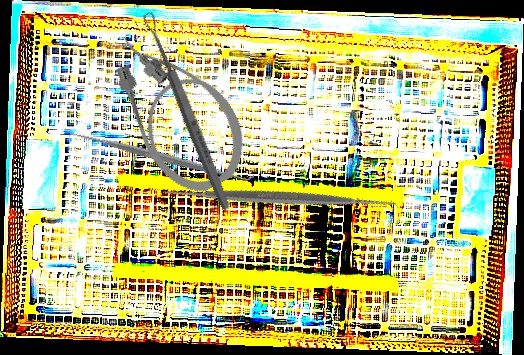Cannula: (95, 8, 261, 206)
Spatula Surgical: (156, 75, 403, 321), (67, 121, 256, 192)
Surgical Spoon: (140, 10, 234, 212)
